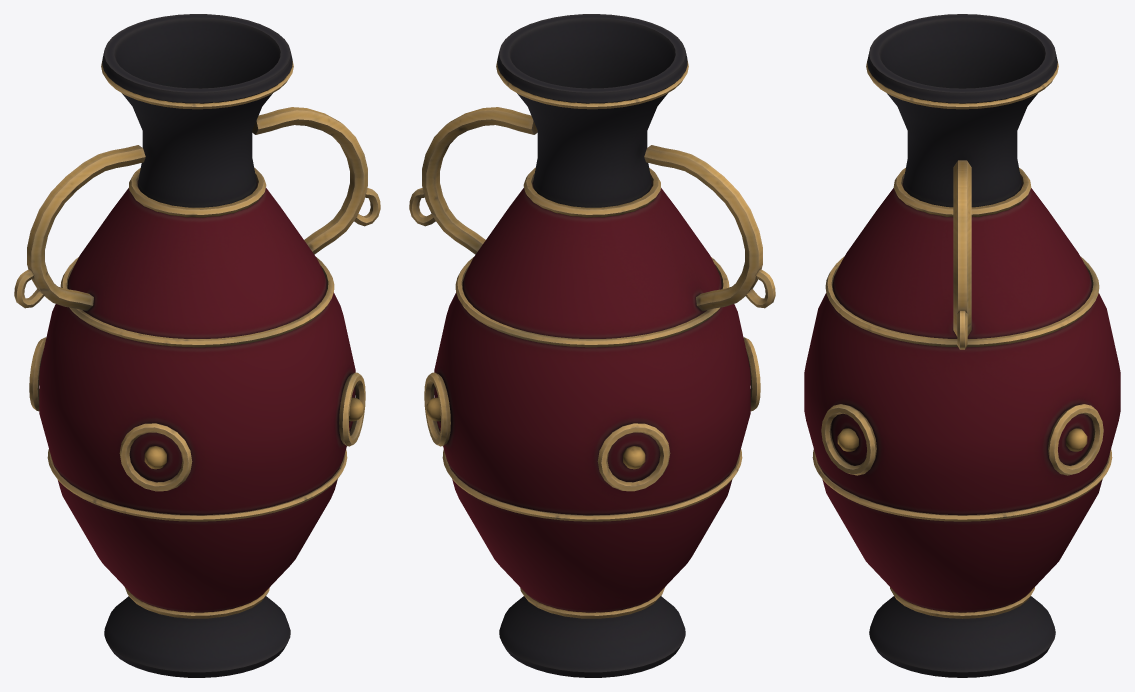
The model's file is CeramicVase.fbx.
3 views of the same model, side by side, from view 1: azimuth 30°, elevation 25°; view 2: azimuth 150°, elevation 25°; view 3: azimuth 270°, elevation 25° (orthographic).
Parts seen in each view (by area): view 1: CeramicVase; view 2: CeramicVase; view 3: CeramicVase.
Part boxes in pixels (bbox=[...]): CeramicVase: bbox=[14, 14, 380, 677]; CeramicVase: bbox=[409, 14, 775, 677]; CeramicVase: bbox=[804, 14, 1120, 677].
Bounding box in the file's own units: 207 × 319 × 156.
